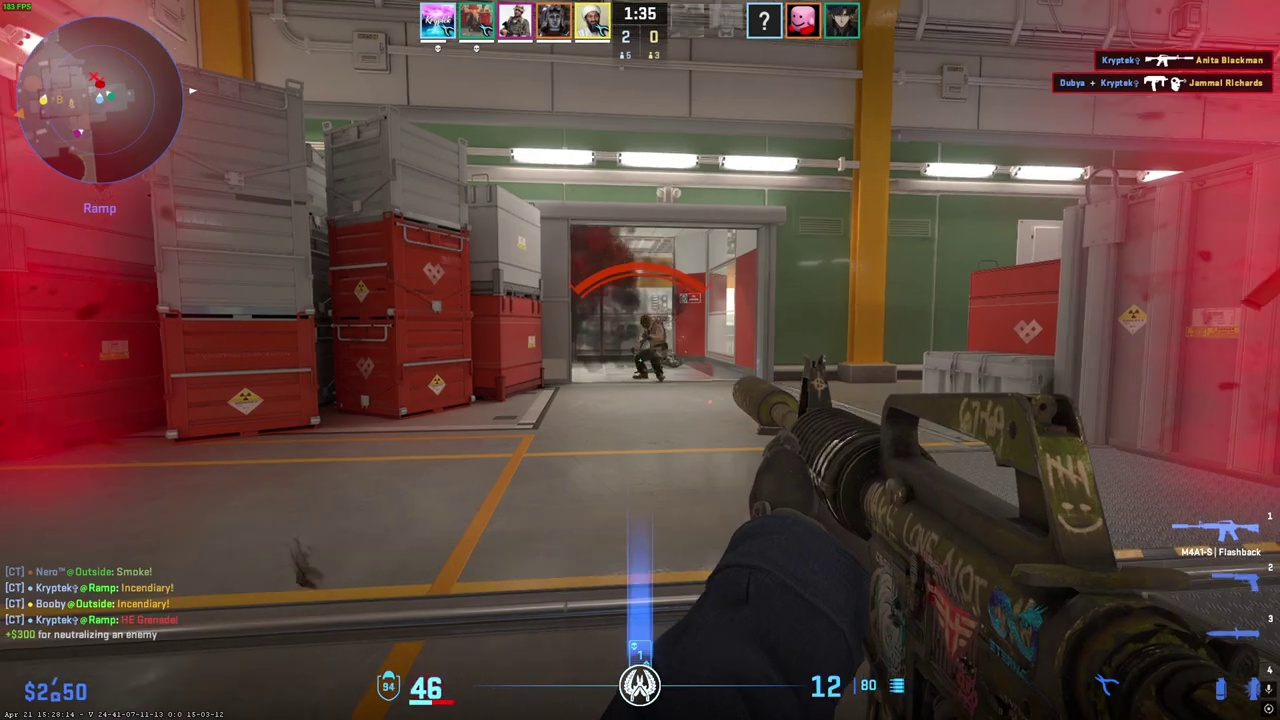Terrorist: (633, 314, 668, 382)
